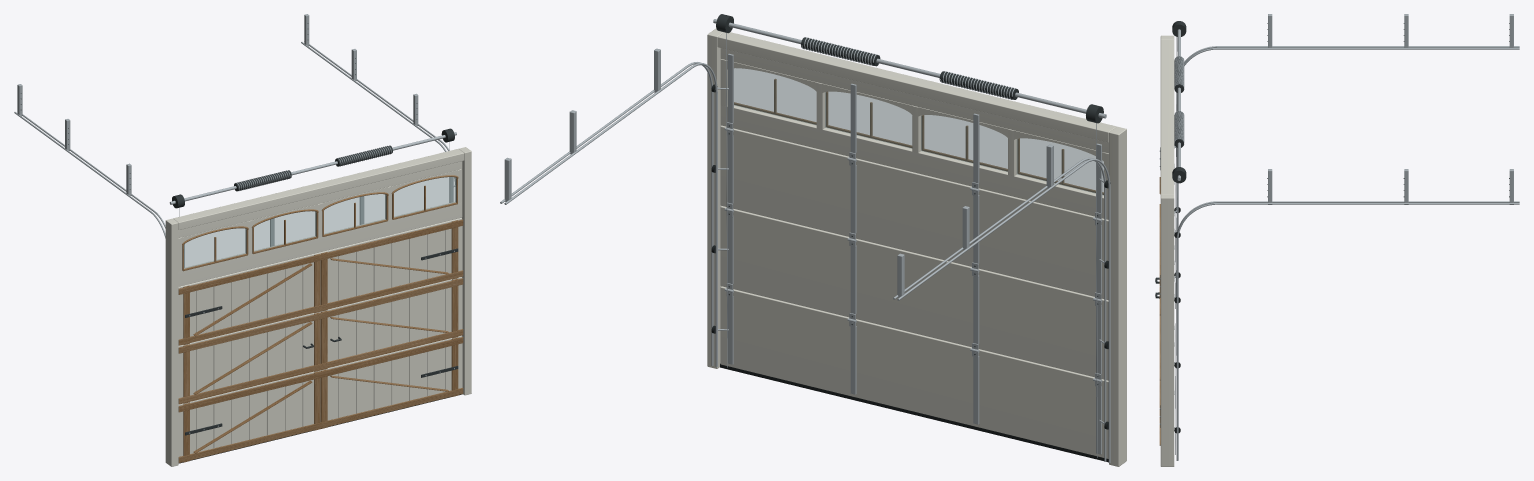
File: garage-door-carriage.glb
3 renders of one model, left to right at view 1: azimuth 30°, elevation 25°; view 2: azimuth 150°, elevation 25°; view 3: azimuth 270°, elevation 25°, orthographic. The views are drawn at different scales.
Parts seen in each view (by area): view 1: garage-door-carriage authored assembly; view 2: garage-door-carriage authored assembly; view 3: garage-door-carriage authored assembly.
Boxes of the visible parts, left/top/right/bottom form: garage-door-carriage authored assembly: left=14, top=14, right=471, bottom=466; garage-door-carriage authored assembly: left=500, top=14, right=1126, bottom=466; garage-door-carriage authored assembly: left=1155, top=14, right=1519, bottom=466.
Bounding box in the file's own units: 2.85 × 2.4 × 2.7.
Materials: 6 (1 with a texture image).
